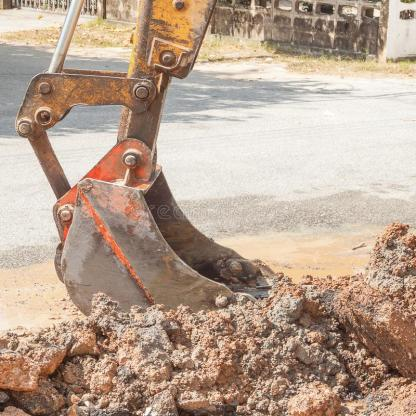excavator: (12, 0, 306, 340)
